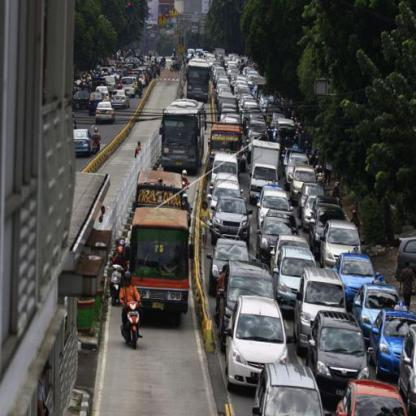bus: (129, 170, 192, 324), (161, 102, 205, 176), (187, 61, 213, 104)
car: (224, 294, 288, 392), (310, 311, 370, 384), (296, 265, 348, 345), (254, 360, 326, 415), (373, 311, 415, 381), (274, 240, 318, 306), (352, 283, 402, 336), (340, 378, 409, 415), (333, 252, 376, 310), (320, 220, 362, 268), (212, 197, 249, 239), (396, 237, 416, 277), (75, 129, 94, 159), (93, 100, 116, 123), (111, 91, 129, 111)
motorbike: (120, 304, 143, 349), (109, 260, 124, 310)
